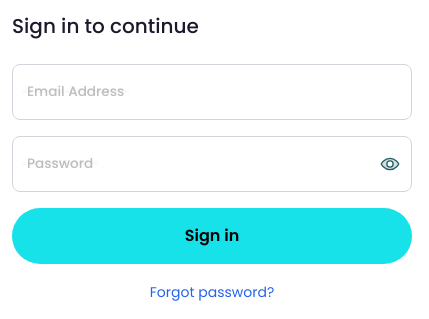
Test: GuestSignIn › form submission › shows loading state during sign in
Type "test@example.com" into the field at (212, 92), box [12,64,412,120]
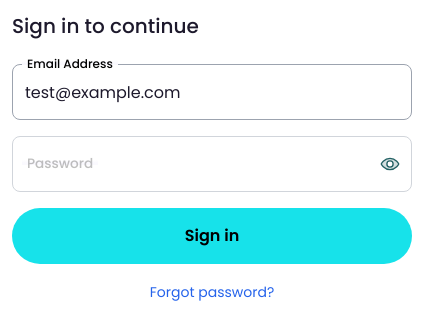
Type "password123" into the password field at (212, 164), box [12,136,412,192]
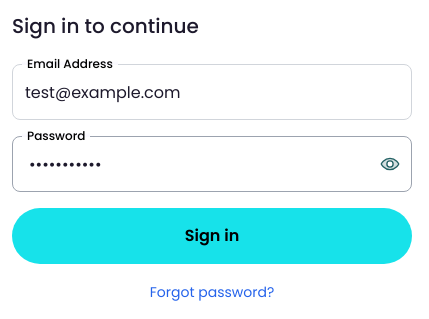
Click the button "Sign in" at (212, 236), box [12,208,412,264]
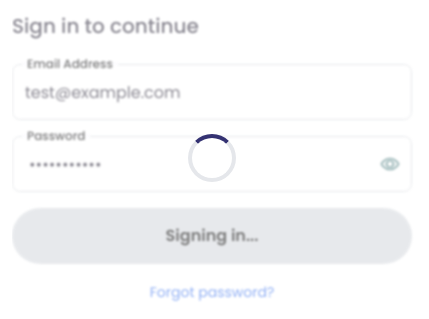
Expected: the button "Signing in..." is disabled, [12,208,412,264]
